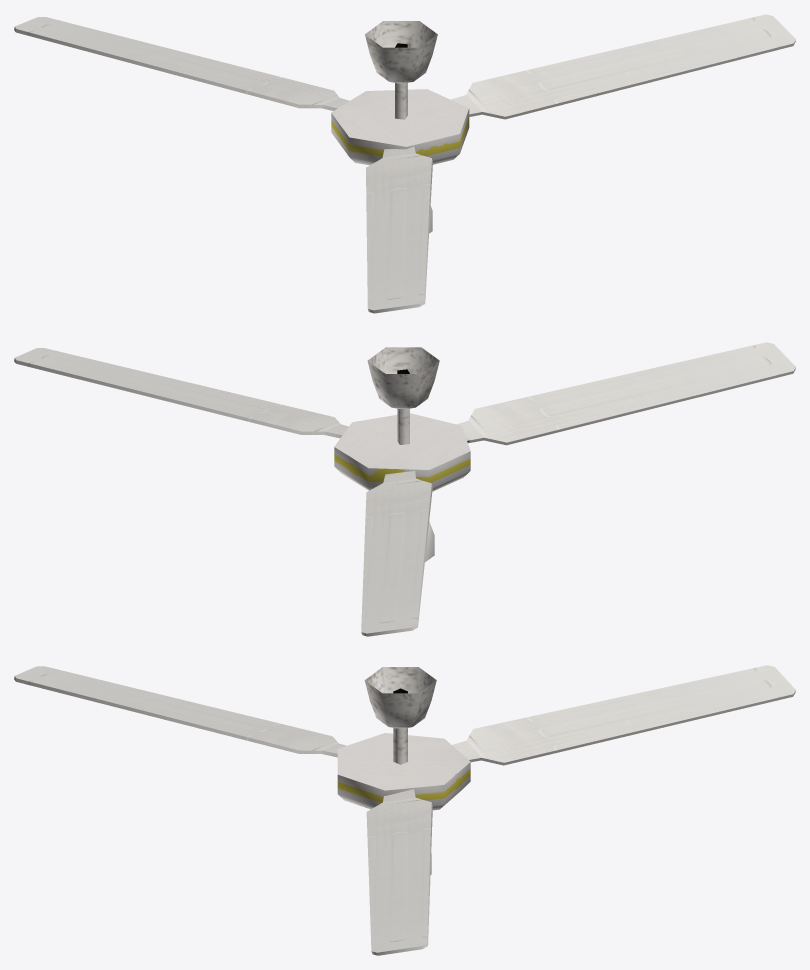
Rendered from ceiling_fan.glb.
The picture shows the model from 3 angles, top to bottom: view 1: azimuth 30°, elevation 25°; view 2: azimuth 150°, elevation 25°; view 3: azimuth 270°, elevation 25°; orthographic projection.
Parts seen in each view (by area): view 1: Ceiling_Fan_Blades_01, Ceiling_Fan_01; view 2: Ceiling_Fan_Blades_01, Ceiling_Fan_01; view 3: Ceiling_Fan_Blades_01, Ceiling_Fan_01.
Part boxes in pixels (box(x1,y1,x2,y2)): Ceiling_Fan_Blades_01: box(14, 14, 795, 313); Ceiling_Fan_01: box(365, 21, 437, 233); Ceiling_Fan_Blades_01: box(14, 342, 795, 636); Ceiling_Fan_01: box(367, 347, 439, 562); Ceiling_Fan_Blades_01: box(14, 665, 795, 955); Ceiling_Fan_01: box(364, 667, 436, 874).
Size of the model in its own units: 1.76 by 0.5565 by 2.03.
1 material, 1 textured.
